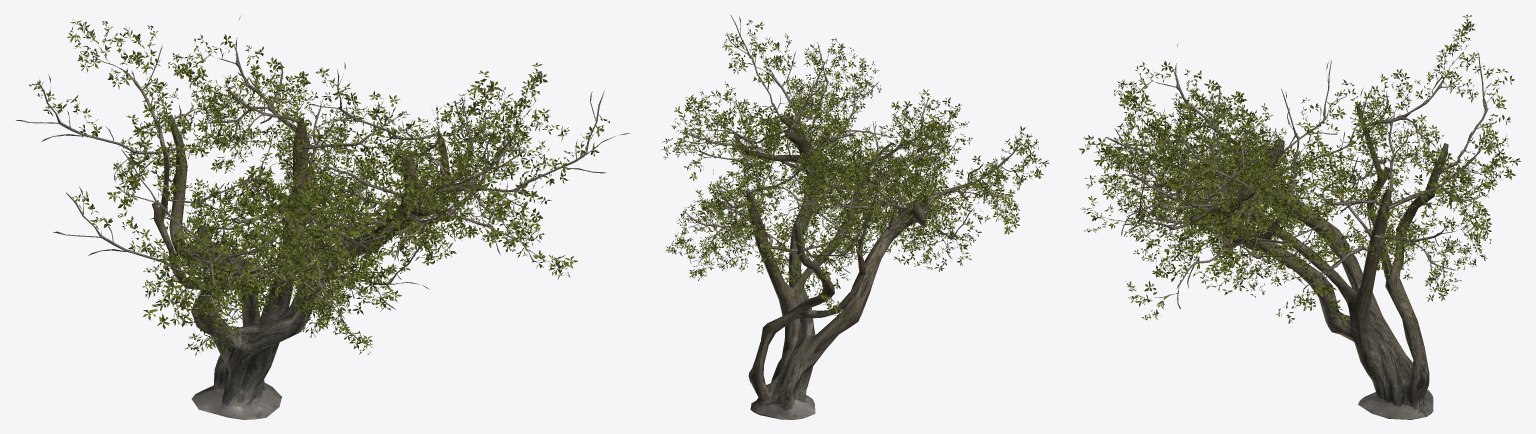
Rendered from tree.glb.
3 renders of one model, left to right at view 1: azimuth 30°, elevation 25°; view 2: azimuth 150°, elevation 25°; view 3: azimuth 270°, elevation 25°, orthographic. The views are drawn at different scales.
Visible parts, largest first — view 1: island_tree_02_LOD0; view 2: island_tree_02_LOD0; view 3: island_tree_02_LOD0.
Part boxes in pixels (x1,y1,x2,y2): island_tree_02_LOD0: (16, 16, 630, 419); island_tree_02_LOD0: (660, 14, 1049, 419); island_tree_02_LOD0: (1079, 14, 1520, 419).
Bounding box in the file's own units: 4.21 × 3.4 × 4.07.
3 materials, 3 textured.
